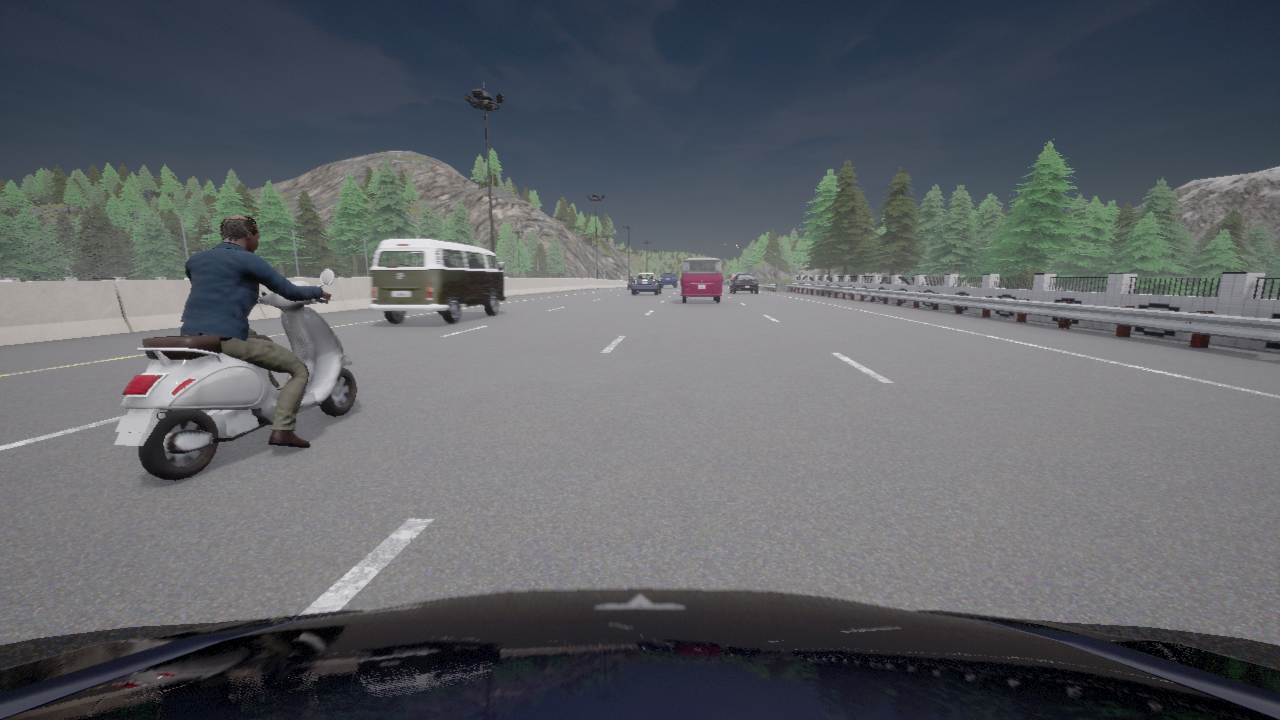cyclist: (0, 588, 1279, 719), (114, 269, 356, 479), (370, 238, 505, 323), (681, 257, 722, 302), (631, 273, 661, 294), (730, 274, 758, 293), (660, 273, 677, 287), (627, 276, 635, 288)
